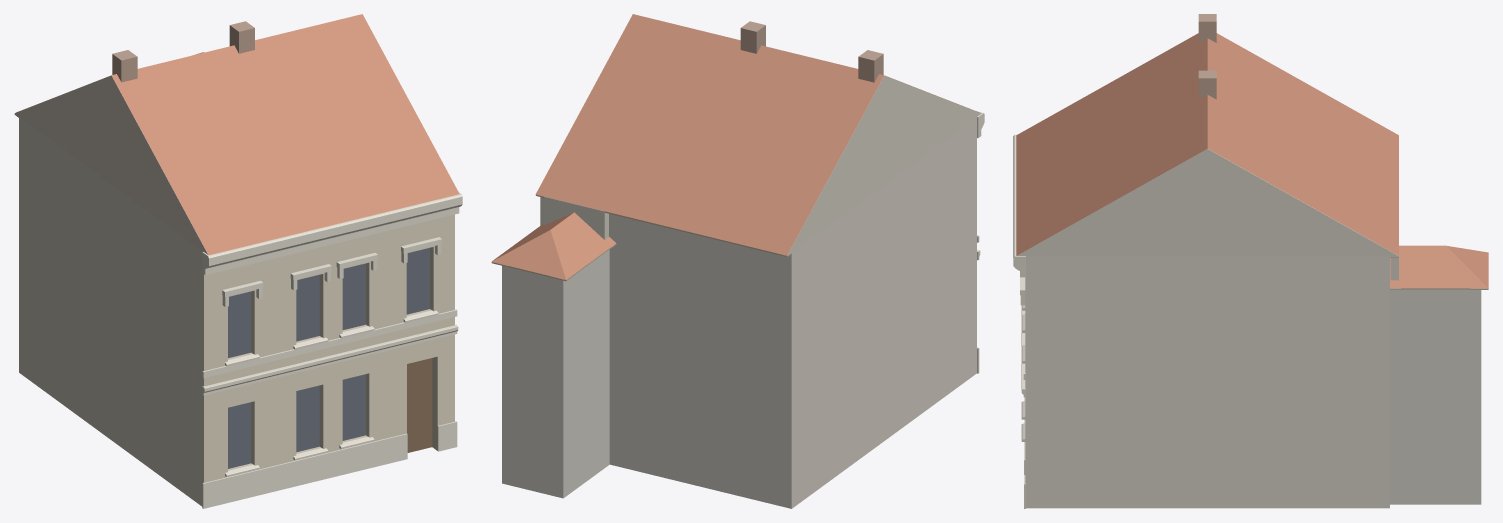
3 views of the same model, side by side, from view 1: azimuth 30°, elevation 25°; view 2: azimuth 150°, elevation 25°; view 3: azimuth 270°, elevation 25° (orthographic).
Parts seen in each view (by area): view 1: CP_830_Masonry, CP_830_Roof, CP_830_Gable_L_gable, CP_830_Cornice_plinth_0, CP_830_Cornice_main_0, CP_830_Cornice_string_0, CP_830_Cornice_sillband_0, CP_830_Chimney_0, CP_830_Chimney_1, CP_830_Cornice_plinth_1; view 2: CP_830_Masonry, CP_830_Roof, CP_830_Rear_Annex, CP_830_Gable_L_gable, CP_830_WingRoof_Rear_Annex, CP_830_AtticClosure_1, CP_830_Chimney_0, CP_830_Chimney_1; view 3: CP_830_Masonry, CP_830_Roof, CP_830_Gable_R_gable, CP_830_Rear_Annex, CP_830_WingRoof_Rear_Annex, CP_830_Cornice_main_0.
Part boxes in pixels (left/top/right/bottom): CP_830_Masonry: left=19, top=117, right=454, bottom=506; CP_830_Roof: left=16, top=14, right=459, bottom=255; CP_830_Gable_L_gable: left=14, top=75, right=208, bottom=254; CP_830_Cornice_plinth_0: left=202, top=433, right=407, bottom=508; CP_830_Cornice_main_0: left=202, top=192, right=462, bottom=275; CP_830_Cornice_string_0: left=202, top=325, right=458, bottom=395; CP_830_Cornice_sillband_0: left=202, top=309, right=457, bottom=378; CP_830_Chimney_0: left=112, top=50, right=137, bottom=82; CP_830_Chimney_1: left=229, top=21, right=254, bottom=53; CP_830_Cornice_plinth_1: left=437, top=421, right=457, bottom=451; CP_830_Masonry: left=540, top=117, right=976, bottom=508; CP_830_Roof: left=535, top=14, right=979, bottom=255; CP_830_Rear_Annex: left=502, top=249, right=609, bottom=498; CP_830_Gable_L_gable: left=779, top=75, right=980, bottom=256; CP_830_WingRoof_Rear_Annex: left=491, top=212, right=616, bottom=279; CP_830_AtticClosure_1: left=544, top=196, right=608, bottom=239; CP_830_Chimney_0: left=858, top=50, right=883, bottom=82; CP_830_Chimney_1: left=740, top=21, right=765, bottom=53; CP_830_Masonry: left=1025, top=256, right=1389, bottom=508; CP_830_Roof: left=1016, top=33, right=1398, bottom=255; CP_830_Gable_R_gable: left=1017, top=148, right=1398, bottom=256; CP_830_Rear_Annex: left=1390, top=289, right=1481, bottom=504; CP_830_WingRoof_Rear_Annex: left=1390, top=245, right=1488, bottom=288; CP_830_Cornice_main_0: left=1013, top=134, right=1025, bottom=277.
Bounding box in the file's own units: 9.5 × 13.66 × 15.65.
